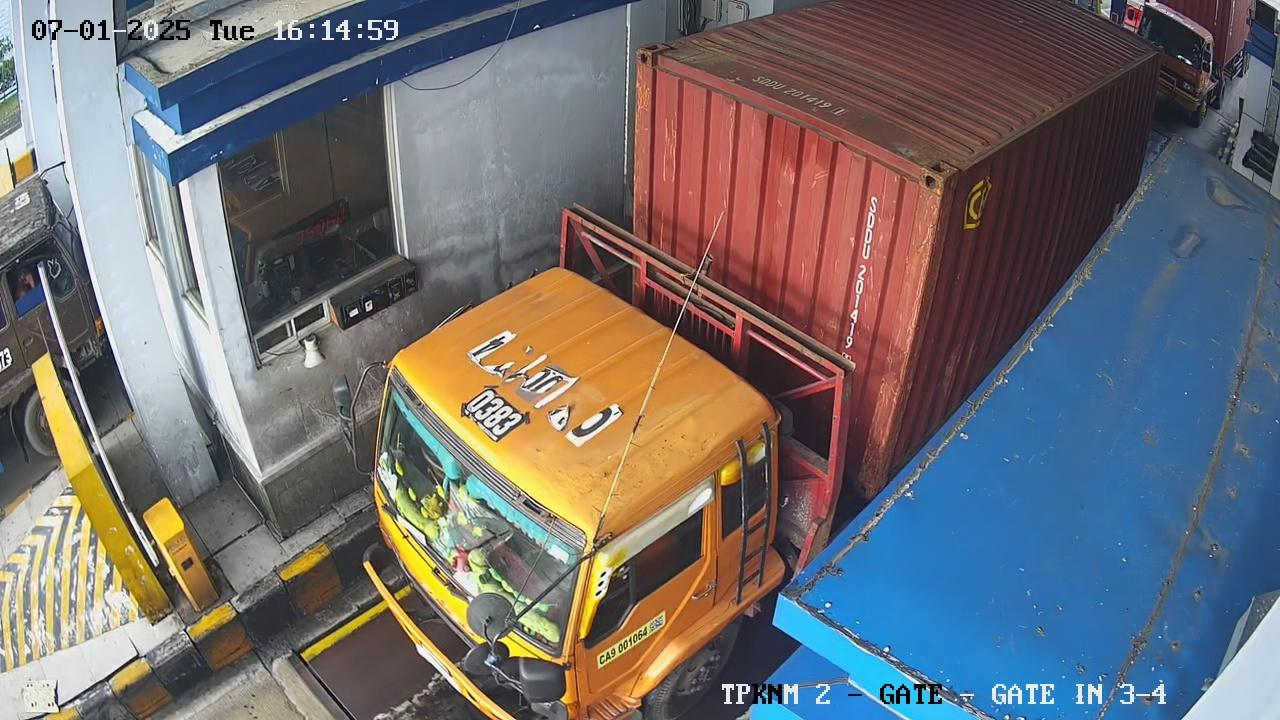Container_ID: (732, 64, 869, 127)
Container_ID_Vertikal: (826, 186, 900, 391), (874, 87, 878, 87)
truck_id: (597, 611, 665, 668)
